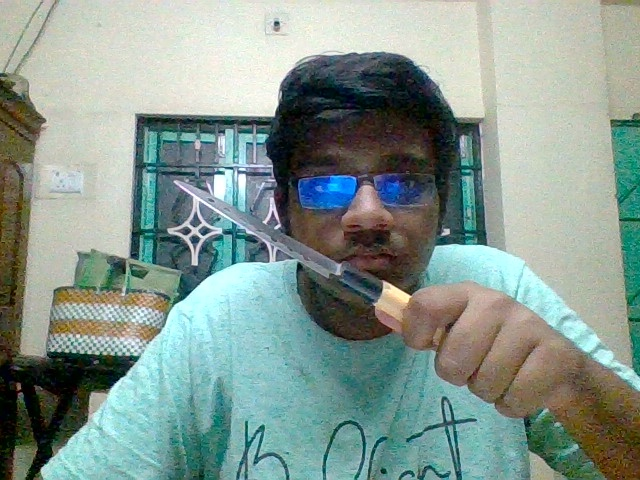knife: (167, 176, 409, 331)
